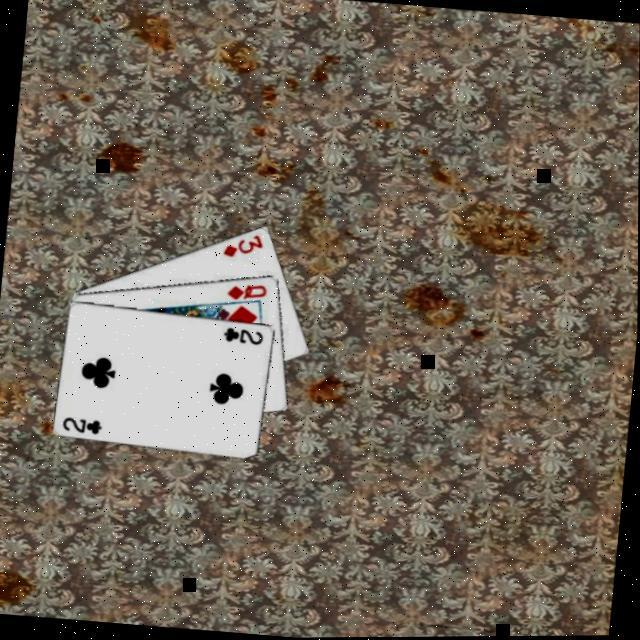2C: (220, 324, 268, 348), (60, 413, 106, 438)
3D: (220, 228, 267, 262)
QD: (224, 280, 272, 306)
